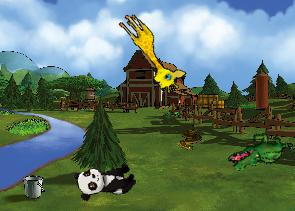crocodile: (225, 119, 293, 185)
giraffe: (108, 9, 190, 97)
panda: (73, 159, 138, 202)
